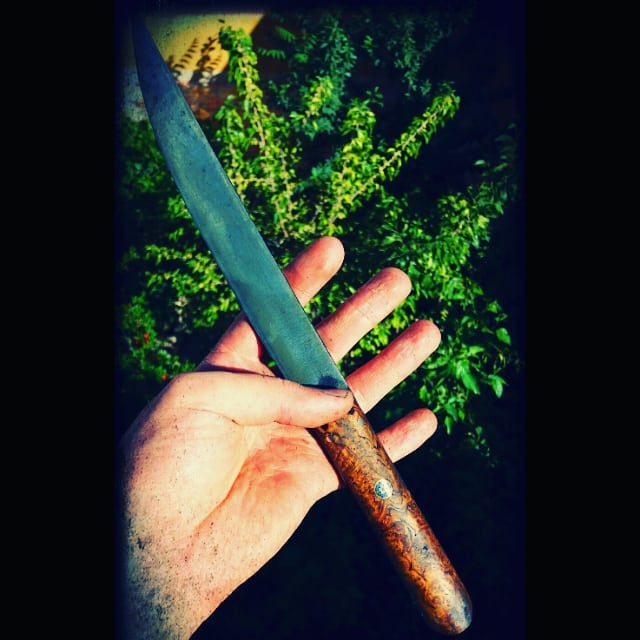knife: (132, 12, 473, 634)
